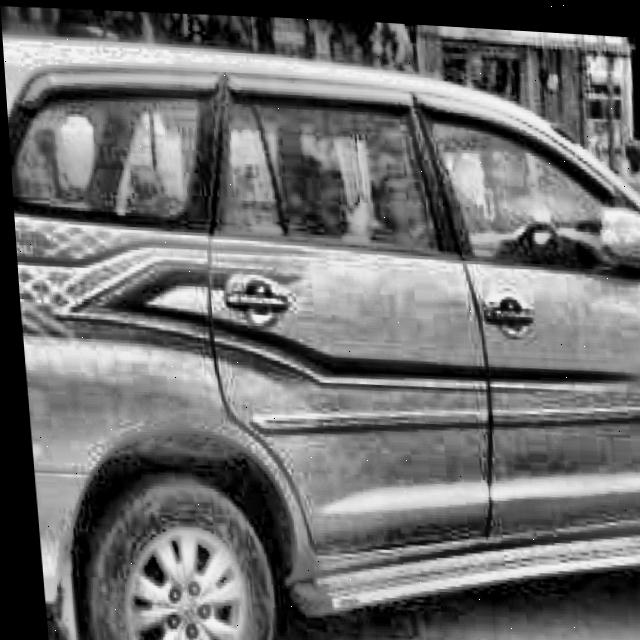light_vehicle: (1, 14, 640, 640)
